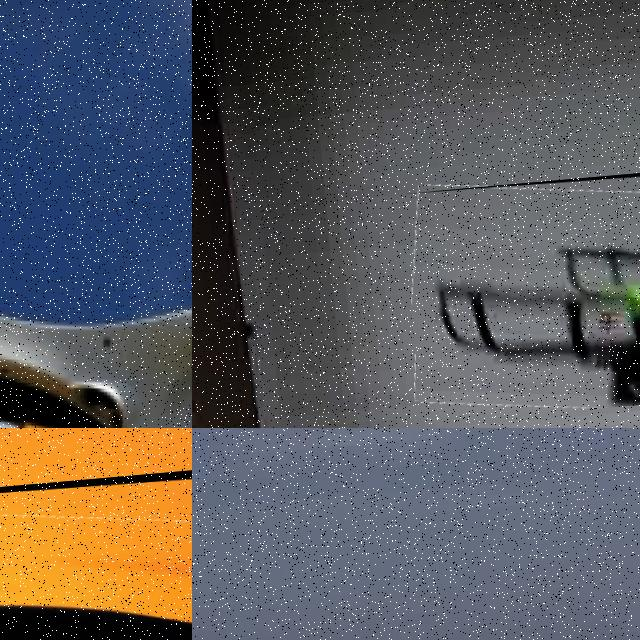0: (401, 167, 640, 423)
drone: (0, 0, 192, 428), (0, 465, 192, 640)
